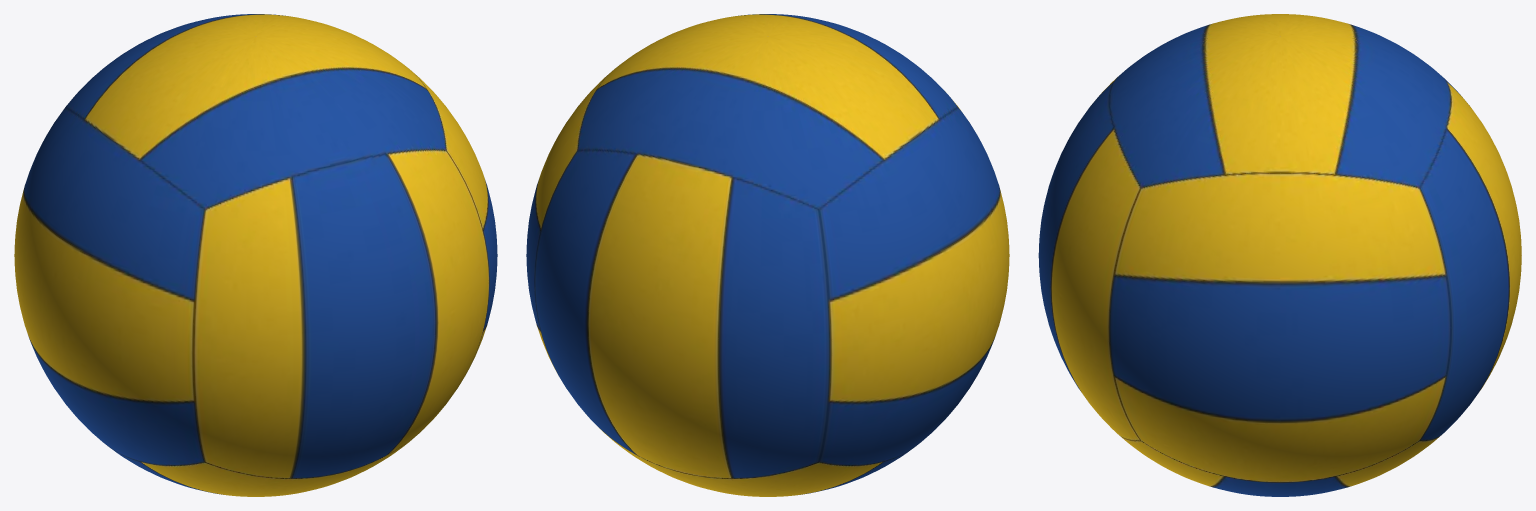
The model's file is ball-volleyball.glb.
3 views of the same model, side by side, from view 1: azimuth 30°, elevation 25°; view 2: azimuth 150°, elevation 25°; view 3: azimuth 270°, elevation 25° (orthographic).
Visible parts, largest first — view 1: Ball; view 2: Ball; view 3: Ball.
Part boxes in pixels (x1,y1,x2,y2): Ball: (14,14,497,496); Ball: (526,14,1009,496); Ball: (1038,14,1521,496).
Size of the model in its own units: 0.21 by 0.21 by 0.2103.
Materials: 2 (2 with a texture image).
